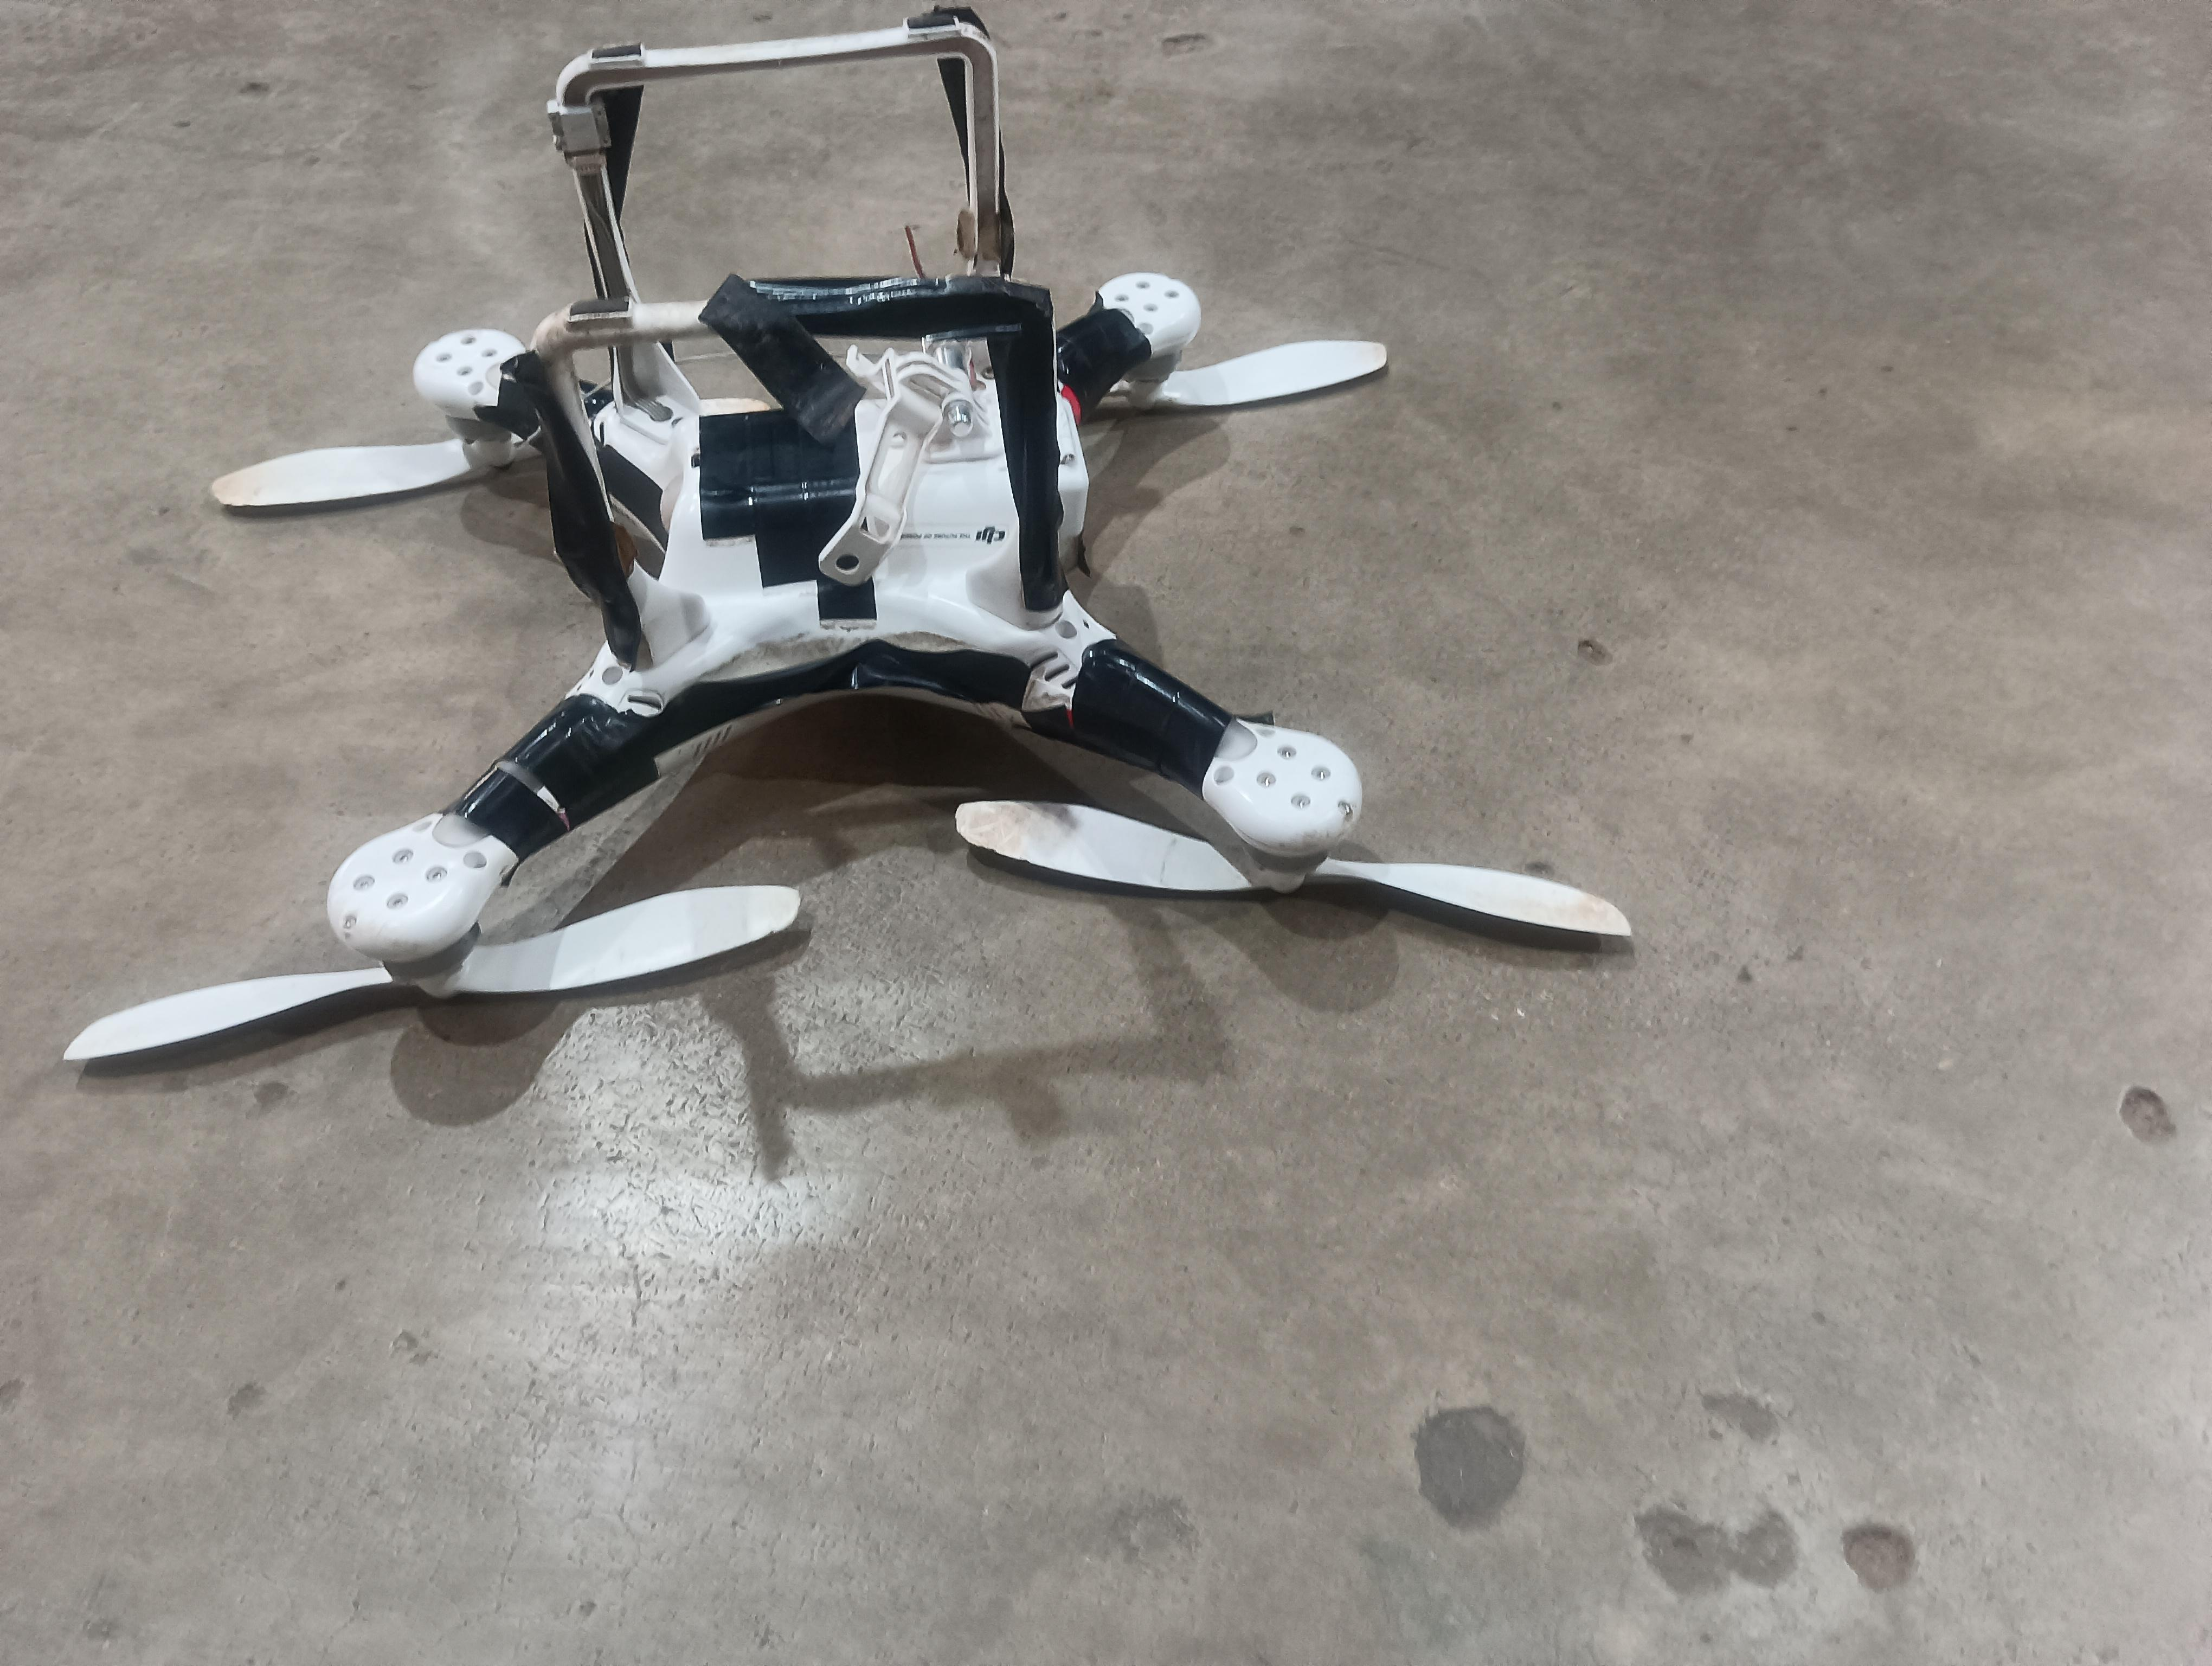drone: (0, 0, 1721, 1249)
